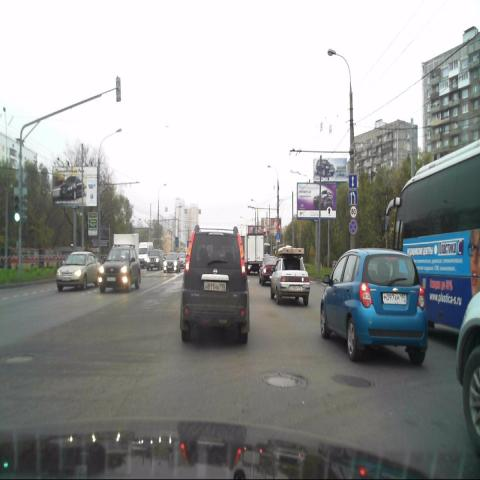3_24: (349, 205, 357, 218)
3_27: (348, 218, 358, 234)
5_15_5: (348, 190, 356, 205)
5_8: (348, 174, 357, 189)
